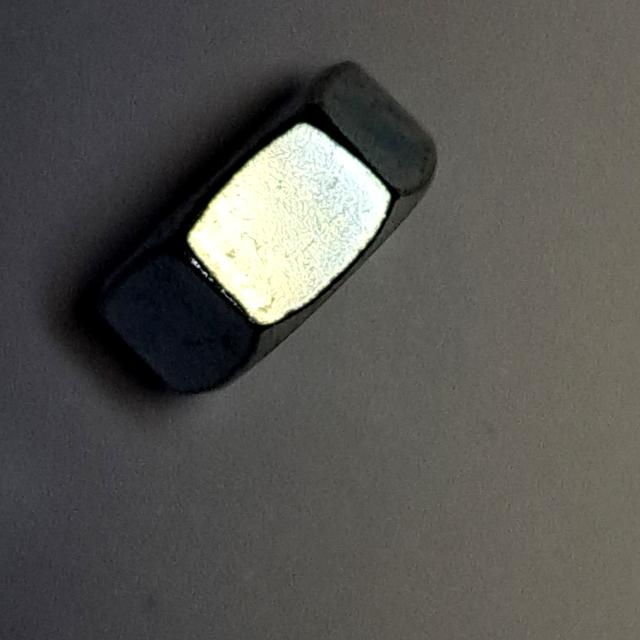Side_Excellent: (72, 51, 451, 408)
